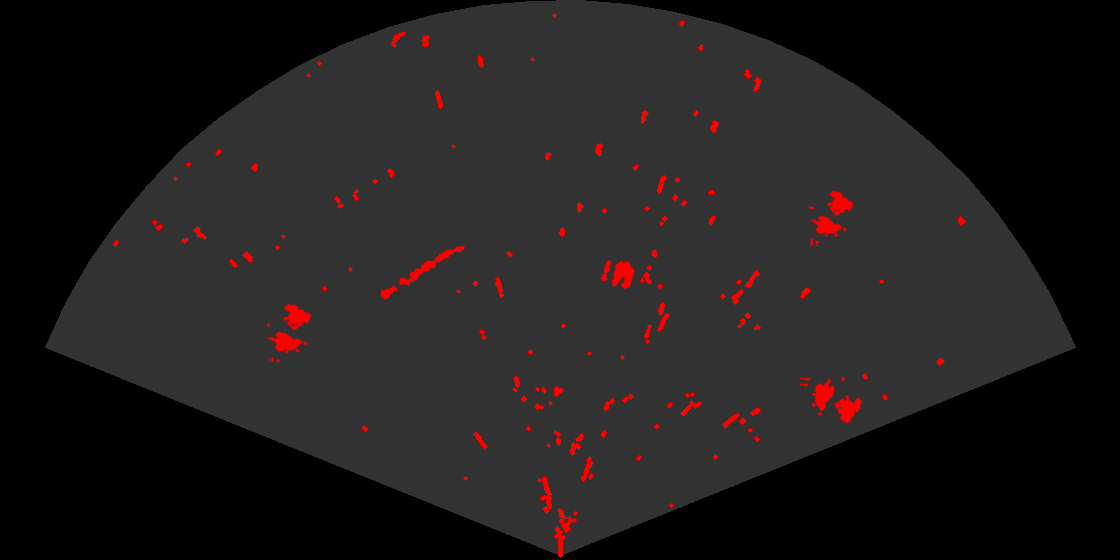ball: (600, 258, 636, 291)
cage: (800, 377, 864, 425), (267, 302, 313, 362), (809, 189, 855, 246)
chain: (379, 244, 466, 302)
